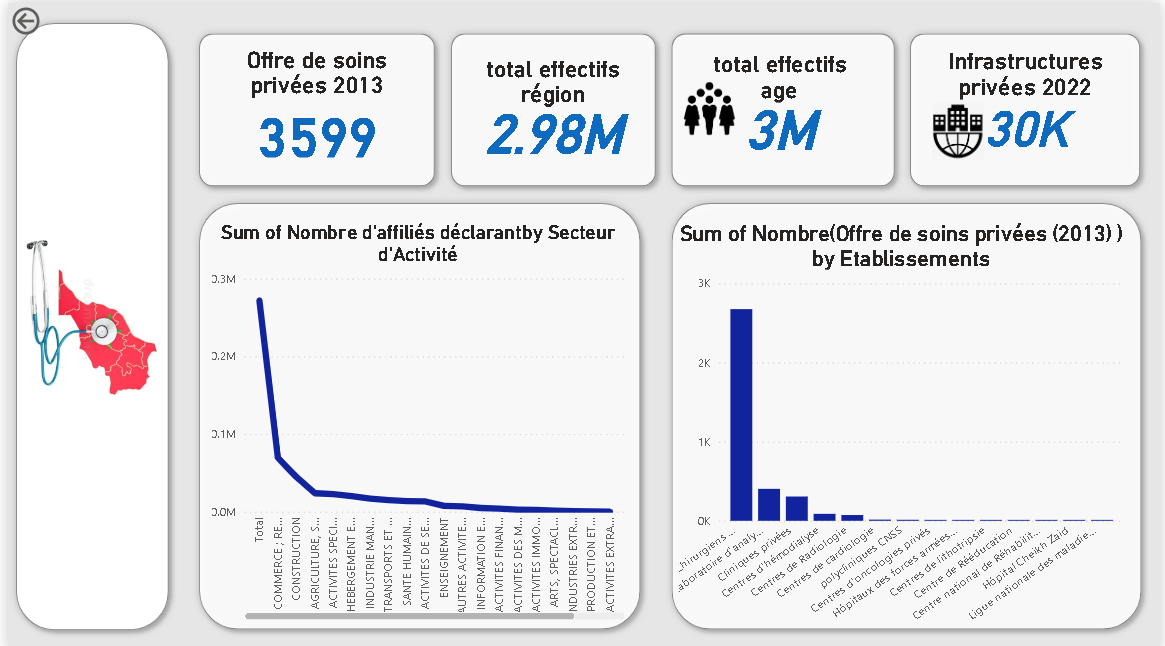

Layout of this report page (visuals, bound fields, positions):
{"tool":"powerbi","page":{"name":"Detail","canvas":[1280,720],"ordinal":1},"visuals":[{"type":"shape","title":"HealthCare","box":[0,12.5,187.6,692.4],"z":0},{"type":"shape","box":[203.2,25,279.8,187.6],"z":1000},{"type":"shape","box":[483,25,245.4,187.6],"z":2000},{"type":"shape","box":[728.4,25,265.7,187.6],"z":3000},{"type":"shape","box":[994.1,25,273.5,187.6],"z":4000},{"type":"shape","box":[203.3,213.3,508.3,491.7],"z":5000},{"type":"shape","box":[728.3,213.3,540,491.7],"z":6000},{"type":"card","title":"total  effectifs  région","fields":{"Values":["Max(calcule.Efectif)"]},"box":[500.2,57.8,211,121.9],"z":7000},{"type":"card","title":"total effectifs age","fields":{"Values":["Max(Effectif des assurés actifs par Tranche d'âge.Efectif(Effectif des assurés actifs par Tranche d'âge))"]},"box":[761.7,53.3,191.7,123.3],"z":8000},{"type":"card","title":"Infrastructures privées 2022","fields":{"Values":["Sum(infrastructures-privees-2022.Column1)"]},"box":[1016.7,50,228.3,128.3],"z":9000},{"type":"card","title":"Offre de soins privées 2013","fields":{"Values":["Sum(offre-de-soins-privees-ms-2013.Nombre(Offre de soins privées (2013) ))"]},"box":[233.3,48.3,220,128.3],"z":11000},{"type":"image","box":[740,80,78.3,75],"z":12000},{"type":"image","box":[1016.7,105,76.7,75],"z":13000},{"type":"actionButton","box":[0,0,100,40],"z":14000},{"type":"lineChart","title":"Sum of Nombre d''affiliés déclarantby Secteur d''Activité","fields":{"Category":["indicateur-sur-la-repartition-des-affilies-par-secteur-dactivite cnss.Secteur d'Activité"],"Y":["Sum(indicateur-sur-la-repartition-des-affilies-par-secteur-dactivite cnss.Nombre d'affiliés déclarant( Indicateur sur la"]},"box":[221.7,241.7,468.3,448.3],"z":15000},{"type":"lineStackedColumnComboChart","fields":{"Category":["offre-de-soins-privees-ms-2013.Etablissements"],"Y":["Sum(offre-de-soins-privees-ms-2013.Nombre(Offre de soins privées (2013) ))"]},"box":[740,241.7,505,448.3],"z":16000},{"type":"image","box":[11.7,40,163.3,621.7],"z":16001}]}

Visuals, with their boxes in screenshot pixels (x1, y1, x2, y2), scaled from the page's 1280x720 canvas onto the 1165x646 screenshot:
"HealthCare" shape: 0,11,171,632
shape: 185,22,440,191
shape: 440,22,663,191
shape: 663,22,905,191
shape: 905,22,1154,191
shape: 185,191,648,633
shape: 663,191,1154,633
"total  effectifs  région" card: 455,52,647,161
"total effectifs age" card: 693,48,868,158
"Infrastructures privées 2022" card: 925,45,1133,160
"Offre de soins privées 2013" card: 212,43,413,158
image: 674,72,745,139
image: 925,94,995,162
actionButton: 0,0,91,36
"Sum of Nombre d''affiliés déclarantby Secteur d''Activité" lineChart: 202,217,628,619
lineStackedColumnComboChart - offre-de-soins-privees-ms-2013.Etablissements x Sum(offre-de-soins-privees-ms-2013.Nombre(Offre de soins privées (2013) )): 674,217,1133,619
image: 11,36,159,594
